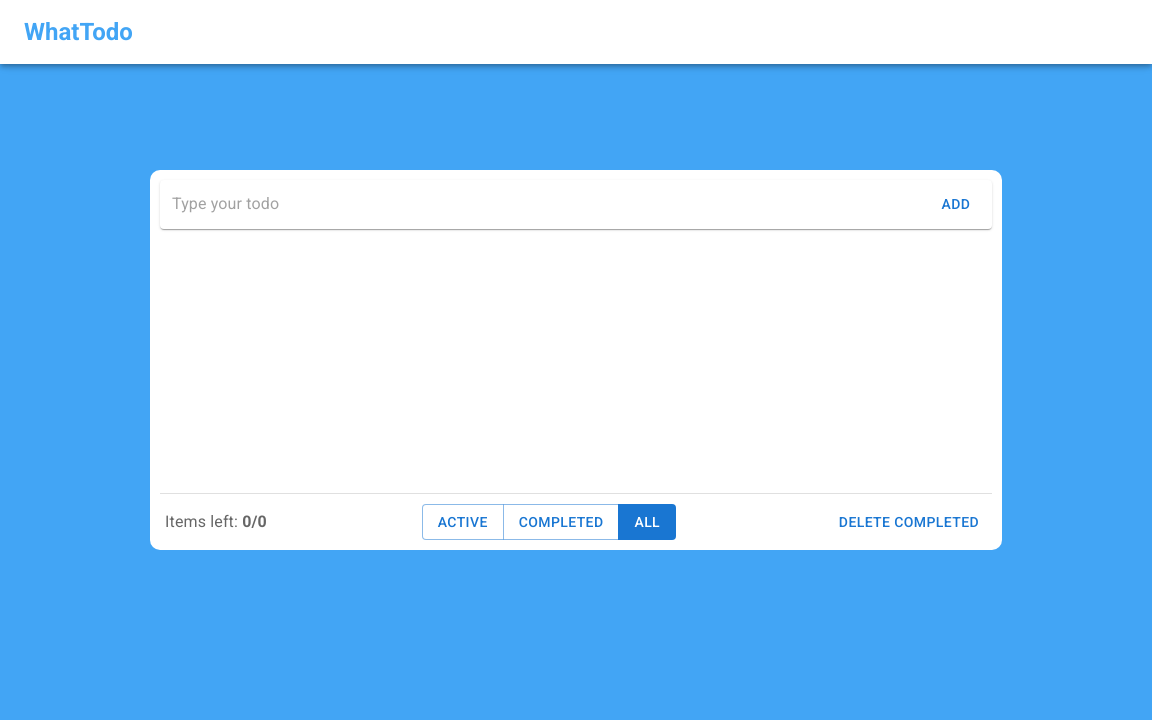
TodoList with AddTodoField integration tests › should render one todo in TodoList when user input something in AddTodoField
Type "Write some tests" into the field with placeholder "Type your todo" at (548, 204), box x1=172 y1=188 x2=924 y2=220
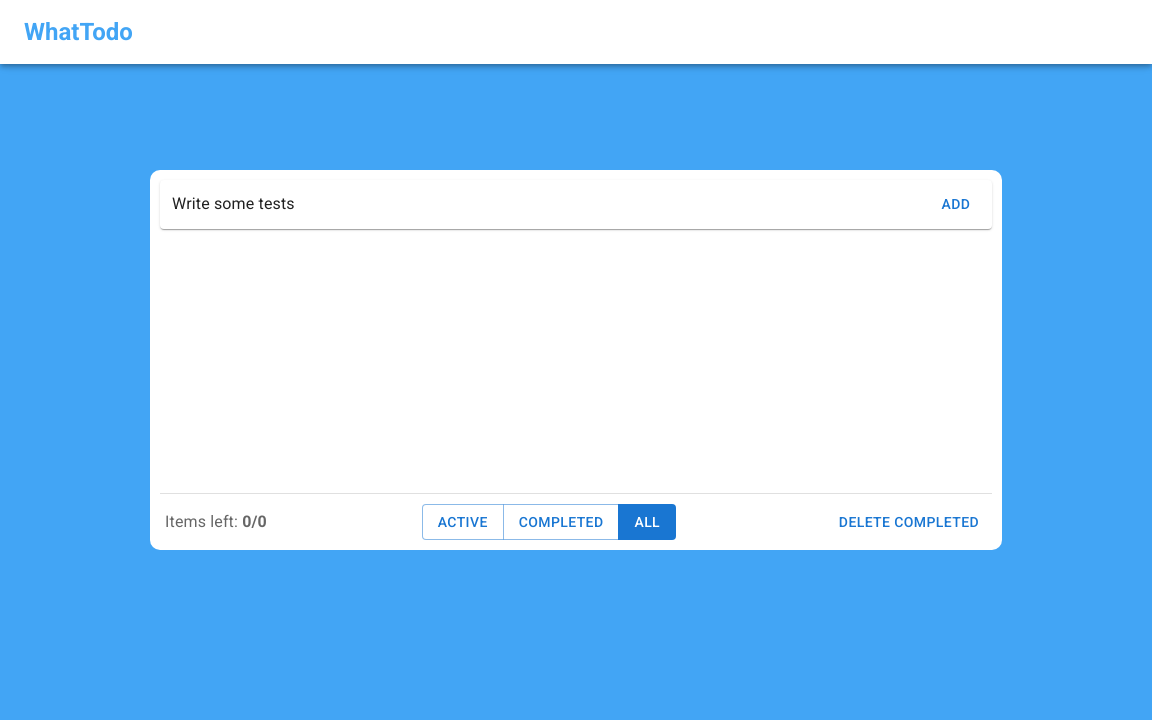
Click the button "Add" at (956, 204), box x1=924 y1=182 x2=988 y2=226
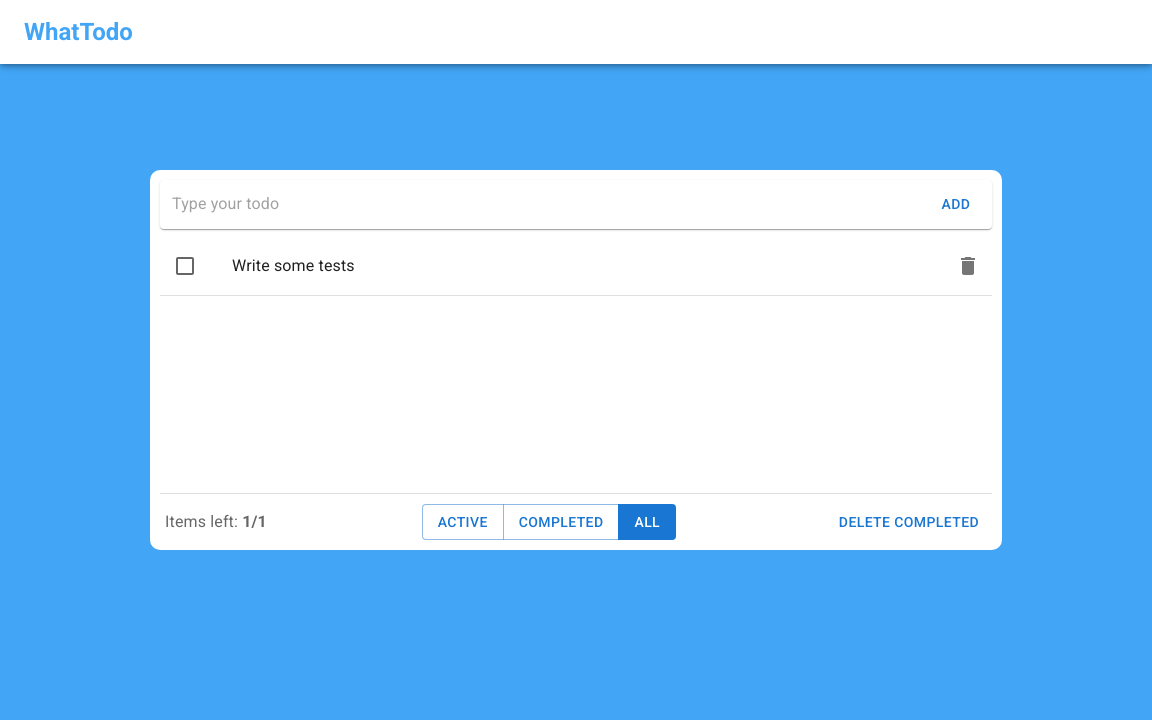
Expected: the number of list items with test id "todo-item" is 1, x1=160 y1=236 x2=992 y2=294
Expected: the field showing "Write some tests" is shown, x1=232 y1=250 x2=944 y2=282
